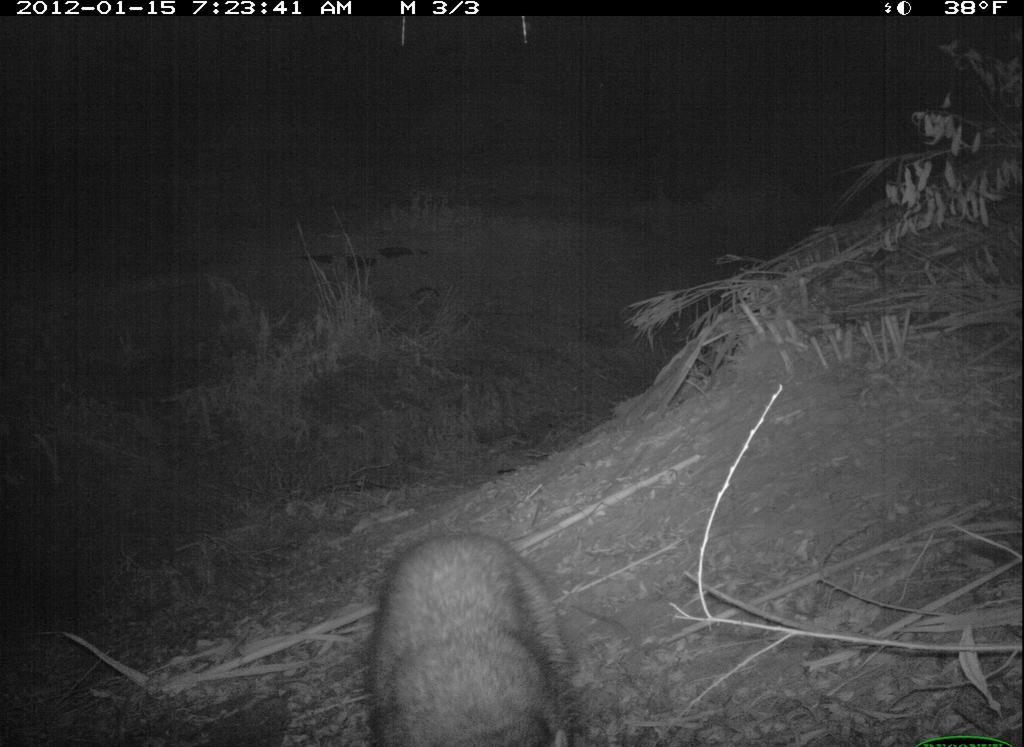raccoon: (363, 518, 588, 745)
